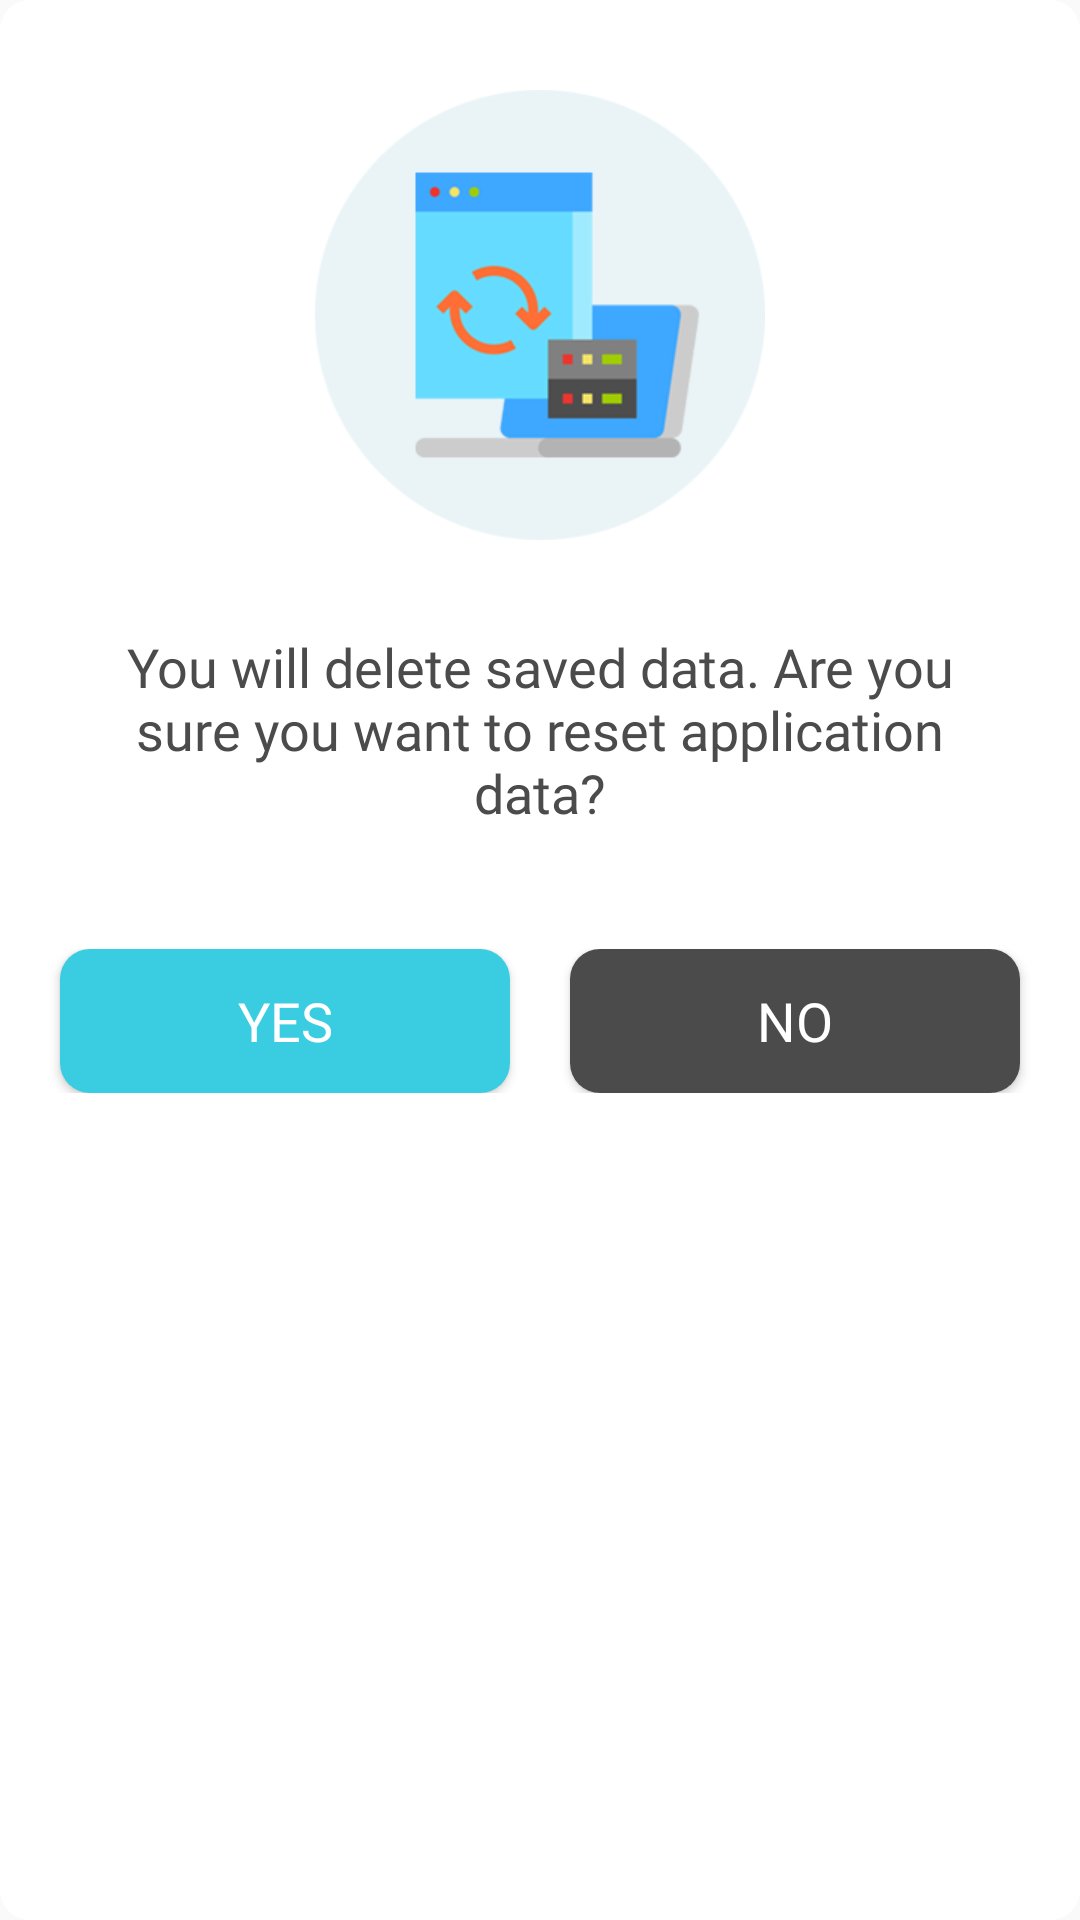

Screen size 1080px×1920px. Icon name, then its box in pixels as (x1, y1, x2, y2):
reset app data: (415, 172, 700, 458)
